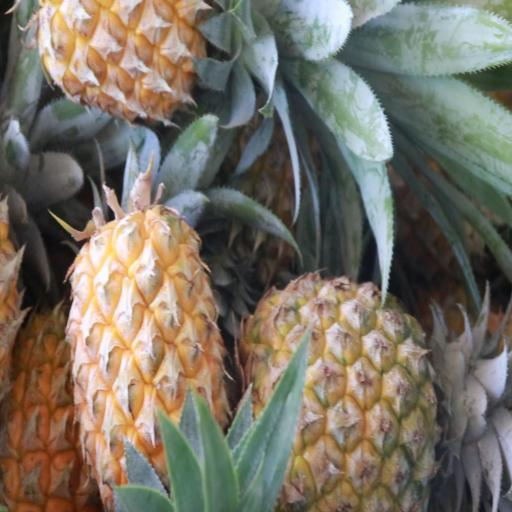Pineapple - v8 v1: (244, 272, 454, 512), (68, 204, 229, 512), (39, 0, 279, 113)
